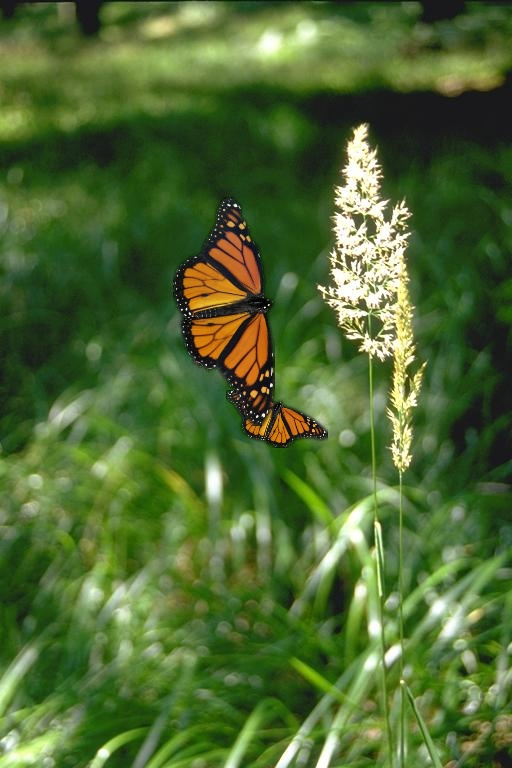danaus_plexippus: (173, 197, 275, 426), (226, 390, 328, 448)
